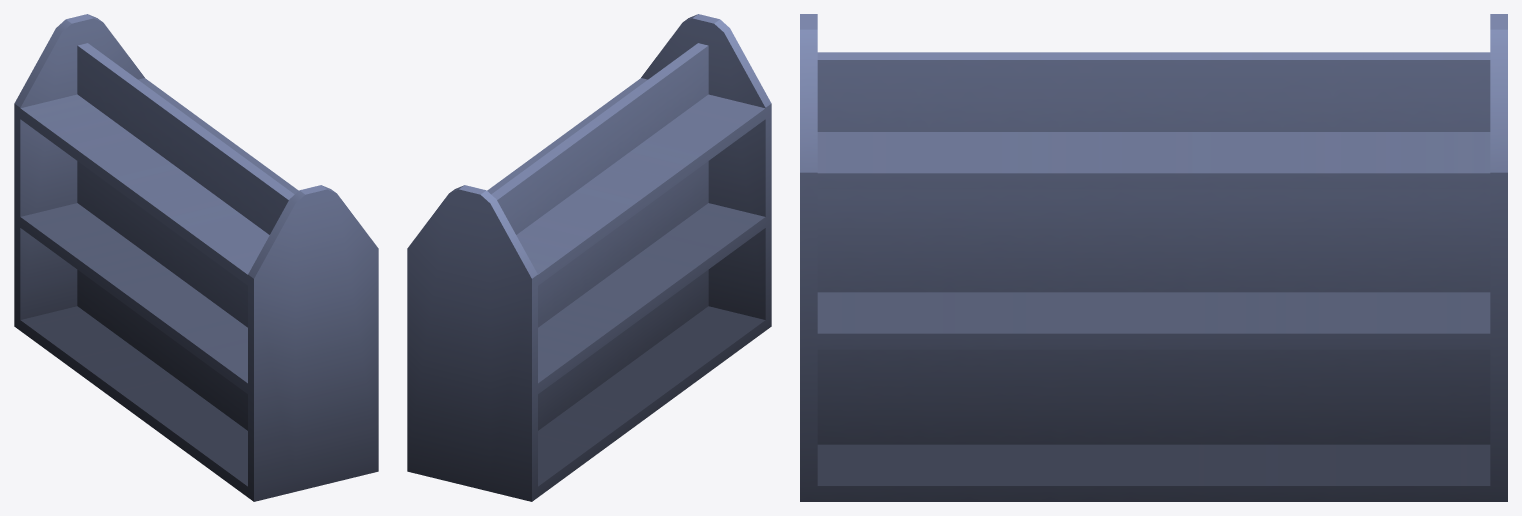
Rendered from Shelf2fbx.fbx.
The picture shows the model from 3 angles, left to right: view 1: azimuth 30°, elevation 25°; view 2: azimuth 150°, elevation 25°; view 3: azimuth 270°, elevation 25°; orthographic projection. The views are drawn at different scales.
Visible parts, largest first — view 1: Shelf.001; view 2: Shelf.001; view 3: Shelf.001.
Boxes of the visible parts, left/top/right/bottom form: Shelf.001: left=14, top=14, right=378, bottom=501; Shelf.001: left=407, top=14, right=771, bottom=501; Shelf.001: left=800, top=14, right=1507, bottom=501.
Size of the model in its own units: 120 by 400 by 271.
